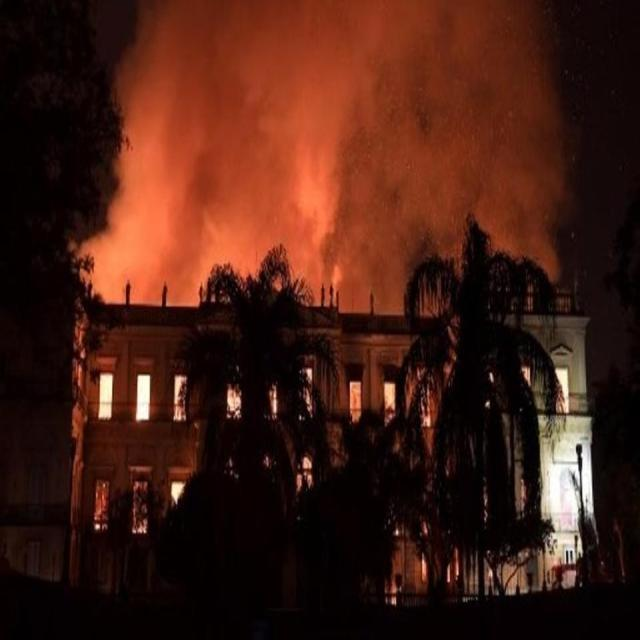Fire: (98, 373, 114, 421), (556, 365, 570, 415), (136, 374, 151, 420), (294, 456, 312, 494), (173, 374, 187, 418), (349, 380, 362, 422), (384, 382, 396, 426), (227, 385, 242, 420), (303, 367, 313, 409), (268, 384, 278, 420), (170, 481, 184, 500)
Smoke: (68, 1, 570, 308)
